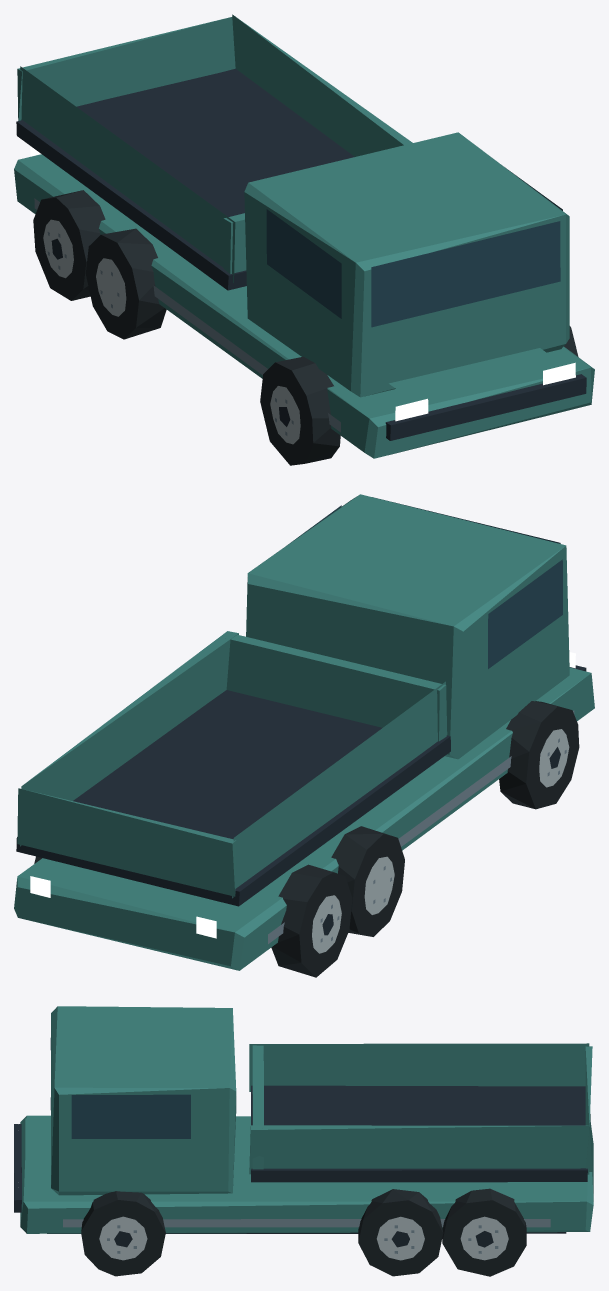
File: road-tipper.lod2.glb
The picture shows the model from 3 angles, top to bottom: view 1: azimuth 30°, elevation 25°; view 2: azimuth 150°, elevation 25°; view 3: azimuth 270°, elevation 25°; orthographic projection. The views are drawn at different scales.
Visible parts, largest first — view 1: road-tipper__body, road-tipper__bed, road-tipper__tailgate, road-tipper__wheel_steer_2_l, road-tipper__wheel_steer_0_l, road-tipper__wheel_steer_1_l; view 2: road-tipper__body, road-tipper__bed, road-tipper__tailgate, road-tipper__wheel_steer_1_l, road-tipper__wheel_steer_0_l, road-tipper__wheel_steer_2_l; view 3: road-tipper__body, road-tipper__bed, road-tipper__wheel_steer_2_r, road-tipper__wheel_steer_1_r, road-tipper__wheel_steer_0_r, road-tipper__tailgate.
Boxes of the visible parts, x1=… form: road-tipper__body: x1=14, y1=132, x2=594, y2=458; road-tipper__bed: x1=16, y1=14, x2=412, y2=290; road-tipper__tailgate: x1=17, y1=17, x2=235, y2=120; road-tipper__wheel_steer_2_l: x1=85, y1=228, x2=166, y2=339; road-tipper__wheel_steer_0_l: x1=260, y1=356, x2=340, y2=465; road-tipper__wheel_steer_1_l: x1=33, y1=190, x2=105, y2=300; road-tipper__body: x1=14, y1=494, x2=594, y2=970; road-tipper__bed: x1=16, y1=631, x2=450, y2=906; road-tipper__tailgate: x1=17, y1=788, x2=236, y2=896; road-tipper__wheel_steer_1_l: x1=271, y1=864, x2=352, y2=977; road-tipper__wheel_steer_0_l: x1=499, y1=701, x2=579, y2=809; road-tipper__wheel_steer_2_l: x1=331, y1=826, x2=404, y2=936; road-tipper__body: x1=14, y1=1006, x2=594, y2=1233; road-tipper__bed: x1=249, y1=1043, x2=589, y2=1182; road-tipper__wheel_steer_2_r: x1=358, y1=1189, x2=443, y2=1276; road-tipper__wheel_steer_1_r: x1=442, y1=1188, x2=526, y2=1276; road-tipper__wheel_steer_0_r: x1=81, y1=1191, x2=165, y2=1276; road-tipper__tailgate: x1=585, y1=1046, x2=592, y2=1171.
Bounding box in the file's own units: 2.84 × 2.23 × 6.59.
